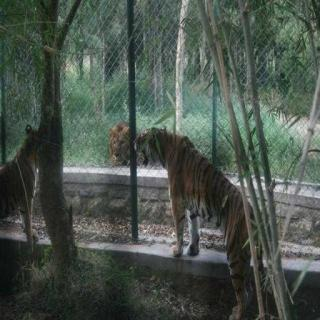Tiger: (134, 120, 259, 317)
